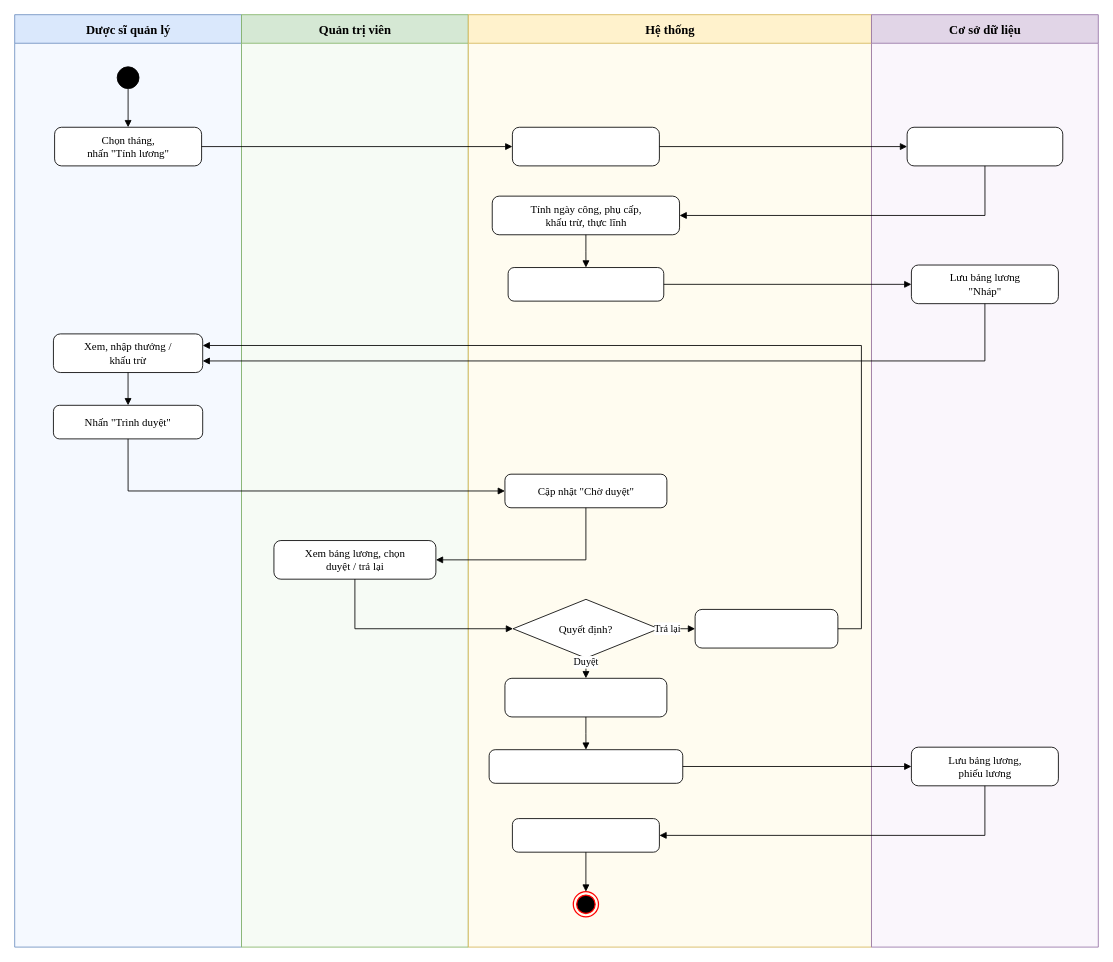
The diagram is 1113 pixels wide and 962 high, and some of its shapes have lost their labels. The shapes that lost their labels are listed below. From the top down, each one's box as (x1, y1, x2, y2) in pixels, then its label:
(512, 126, 659, 166): Lấy chấm công, mức lương
(906, 126, 1063, 166): Truy vấn chấm công, mức lương
(507, 267, 664, 301): Lưu bảng lương nháp
(694, 609, 838, 648): Lưu lý do, trả về "Nháp"
(504, 677, 667, 717): Cập nhật "Đã duyệt", tạo phiếu lương
(488, 749, 683, 783): Gửi lệnh lưu trữ đến CSDL
(512, 818, 659, 852): Hiển thị kết quả
